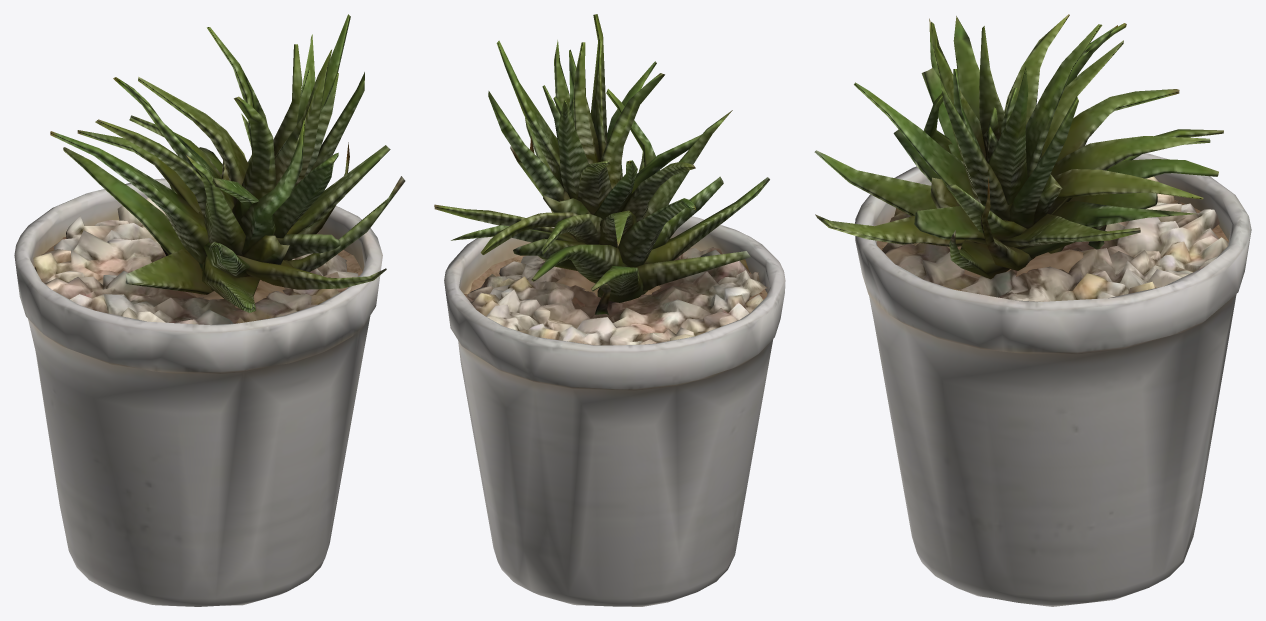
File: small-plant.glb
3 renders of one model, left to right at view 1: azimuth 30°, elevation 25°; view 2: azimuth 150°, elevation 25°; view 3: azimuth 270°, elevation 25°, orthographic. The views are drawn at different scales.
Parts seen in each view (by area): view 1: potted_plant_04_ground; view 2: potted_plant_04_ground; view 3: potted_plant_04_ground.
Boxes of the visible parts, x1,y1,x2,y2 form: potted_plant_04_ground: (14, 14, 405, 606); potted_plant_04_ground: (434, 14, 785, 606); potted_plant_04_ground: (814, 14, 1251, 606).
Size of the model in its own units: 0.1672 by 0.2672 by 0.1845.
1 material, 1 textured.
